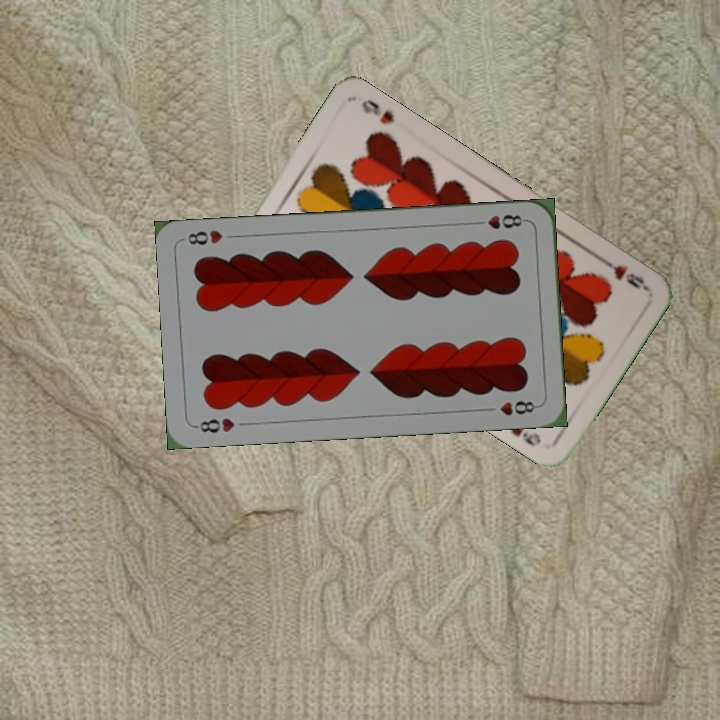H8: (470, 211, 529, 232), (191, 413, 237, 435)
H9: (597, 253, 650, 292)
